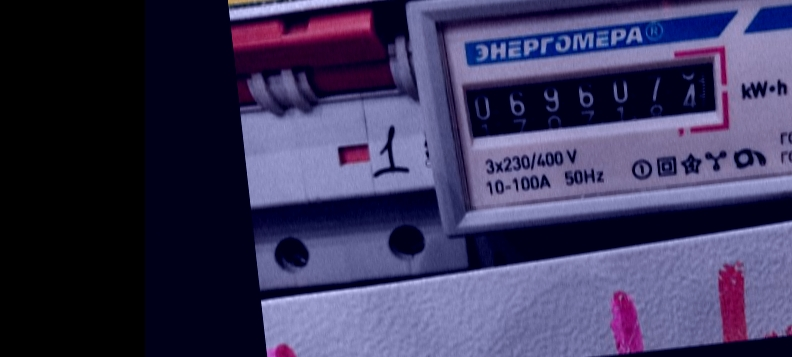0: (607, 73, 629, 105), (469, 92, 490, 122)
4: (677, 81, 696, 111)
6: (573, 79, 595, 110), (504, 87, 526, 117)
7: (643, 72, 663, 103)
9: (539, 84, 559, 114)
screen: (445, 38, 738, 158)
